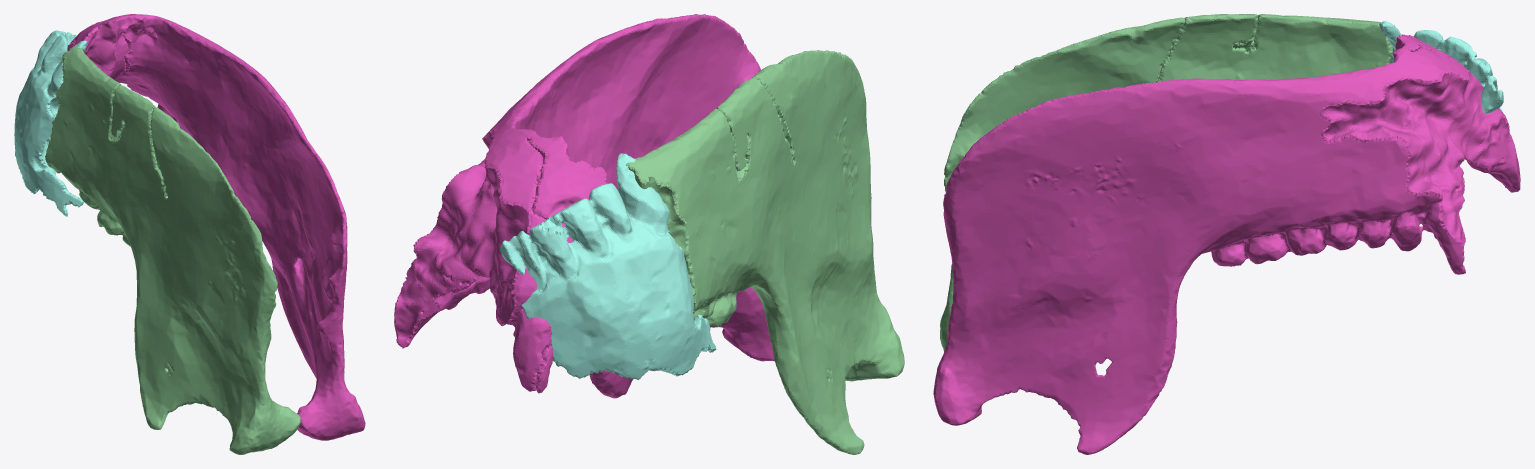
3 renders of one model, left to right at view 1: azimuth 30°, elevation 25°; view 2: azimuth 150°, elevation 25°; view 3: azimuth 270°, elevation 25°, orthographic. The views are drawn at different scales.
Visible parts, largest first — view 1: world; view 2: world; view 3: world.
Boxes of the visible parts, x1,y1,x2,y2 form: world: [14, 14, 365, 454]; world: [394, 14, 904, 454]; world: [933, 14, 1520, 454].
Size of the model in its own units: 0.438 by 0.6759 by 0.9802.
